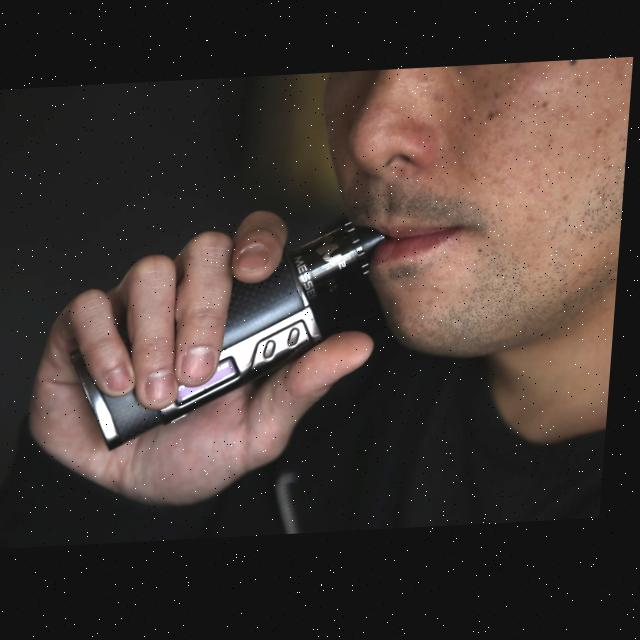vape: (69, 222, 393, 453)
